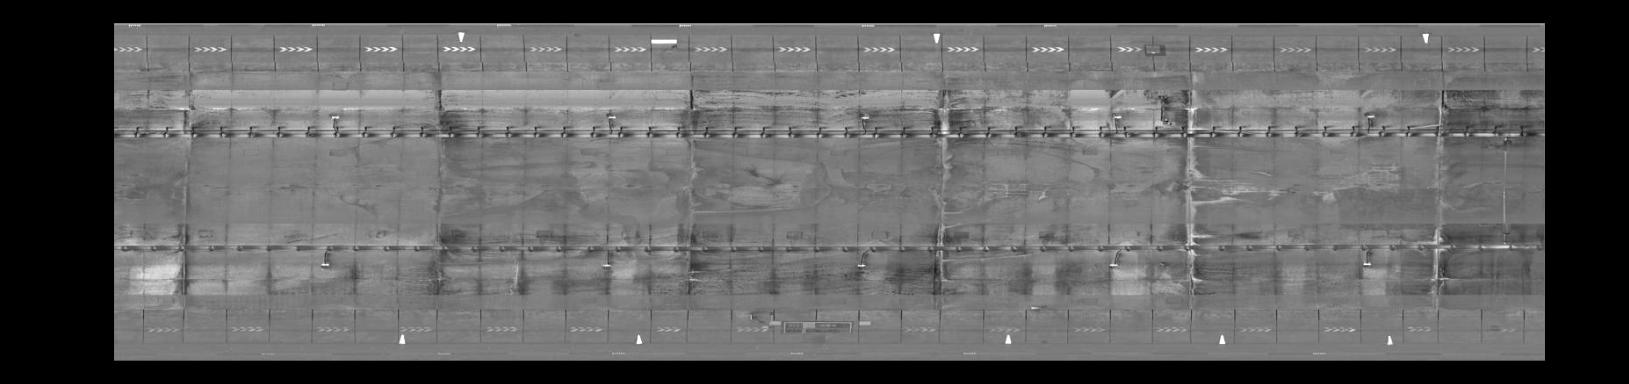light: (1353, 257, 1377, 272), (1106, 112, 1127, 124), (1103, 260, 1124, 271), (317, 258, 333, 271), (851, 260, 871, 271), (1361, 111, 1378, 122), (598, 260, 616, 271), (856, 112, 872, 124), (326, 113, 345, 122), (604, 112, 621, 121)
